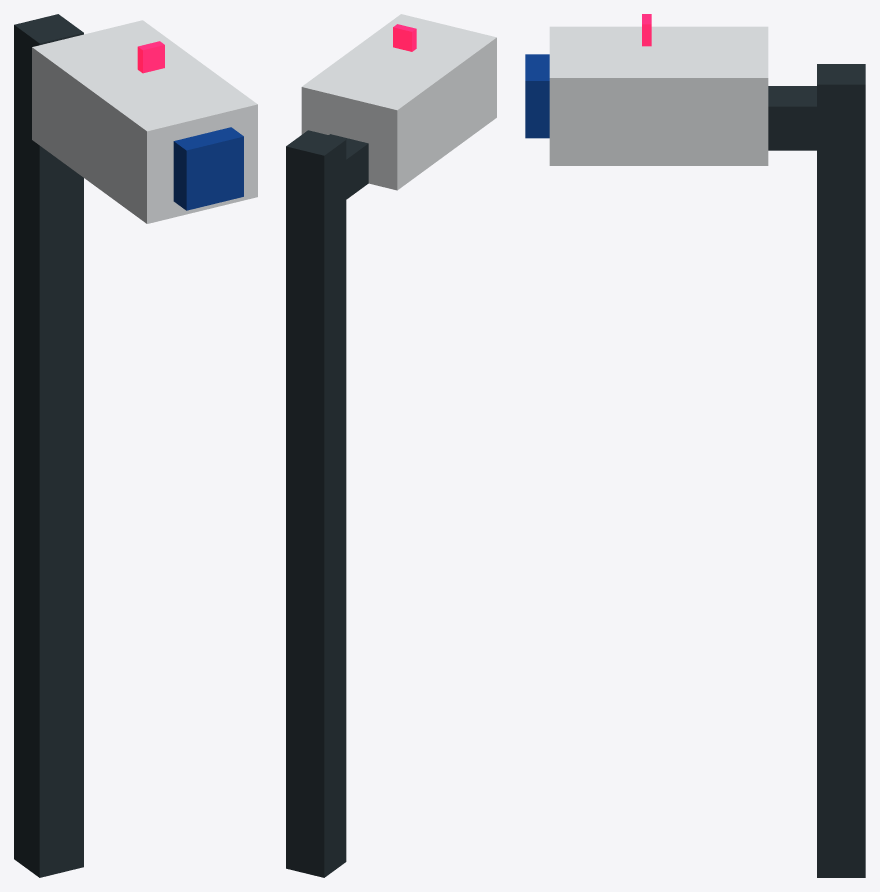
The model's file is seccam.glb.
3 views of the same model, side by side, from view 1: azimuth 30°, elevation 25°; view 2: azimuth 150°, elevation 25°; view 3: azimuth 270°, elevation 25° (orthographic). The views are drawn at different scales.
Visible parts, largest first — view 1: Pole, Housing, Lens, LED; view 2: Pole, Housing, Arm, LED; view 3: Pole, Housing, Arm, Lens.
Part boxes in pixels (left/top/right/bottom): Pole: left=14, top=14, right=83, bottom=877; Housing: left=32, top=20, right=257, bottom=223; Lens: left=173, top=127, right=243, bottom=210; LED: left=137, top=41, right=164, bottom=73; Pole: left=286, top=130, right=346, bottom=877; Housing: left=301, top=14, right=496, bottom=190; Arm: left=329, top=134, right=368, bottom=207; LED: left=393, top=24, right=416, bottom=51; Pole: left=817, top=64, right=865, bottom=877; Housing: left=549, top=26, right=768, bottom=165; Arm: left=768, top=86, right=841, bottom=150; Lens: left=525, top=54, right=549, bottom=138.
Bounding box in the file's own units: 0.5 × 3.85 × 1.4.
